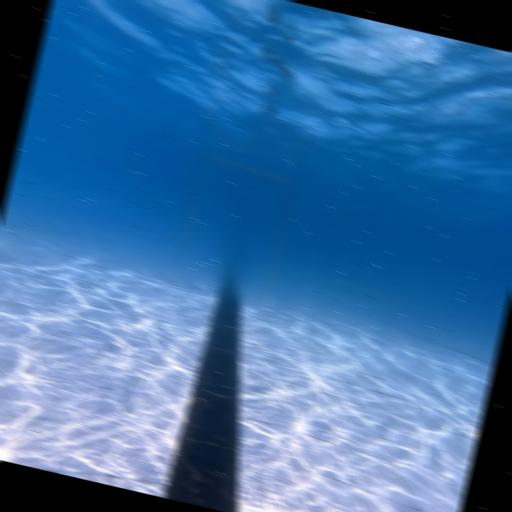gate: (172, 156, 298, 300)
